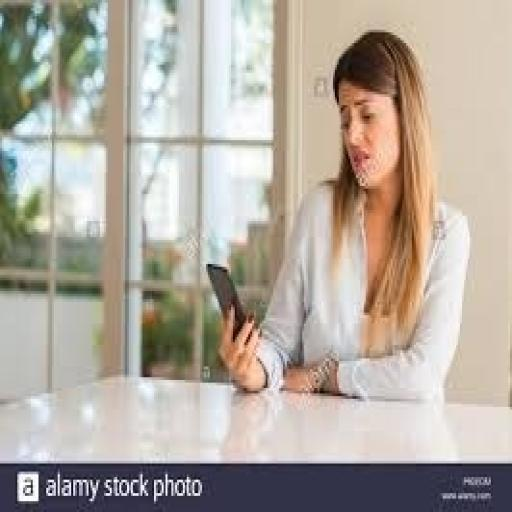texting: (214, 27, 472, 404)
